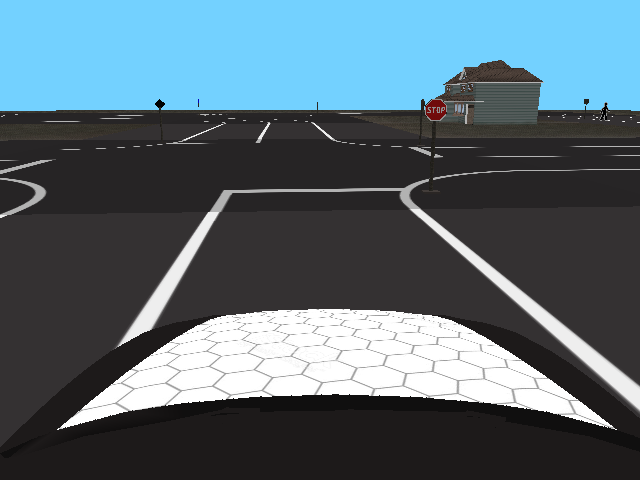stop: (424, 99, 447, 122)
